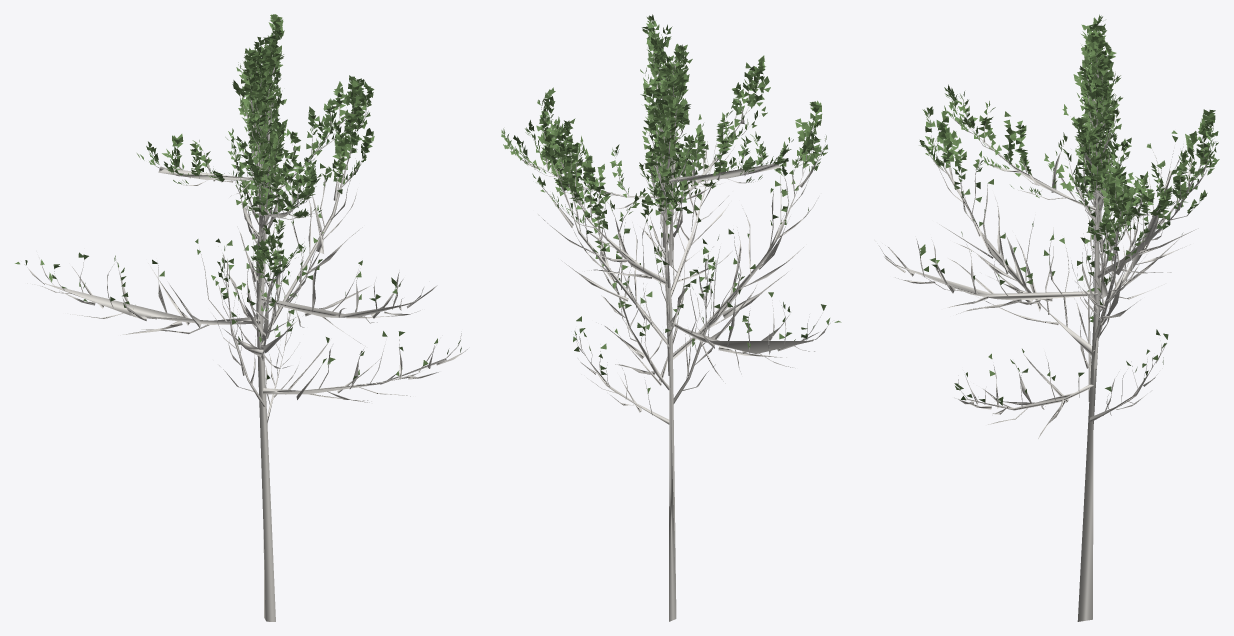
The model's file is Birch_02_LOD0.fbx.
The picture shows the model from 3 angles, left to right: view 1: azimuth 30°, elevation 25°; view 2: azimuth 150°, elevation 25°; view 3: azimuth 270°, elevation 25°; orthographic projection. The views are drawn at different scales.
Visible parts, largest first — view 1: Birch; view 2: Birch; view 3: Birch.
Boxes of the visible parts, left/top/right/bottom form: Birch: left=15, top=14, right=467, bottom=621; Birch: left=501, top=14, right=841, bottom=621; Birch: left=874, top=14, right=1219, bottom=621.
Size of the model in its own units: 716 by 1163 by 603.
